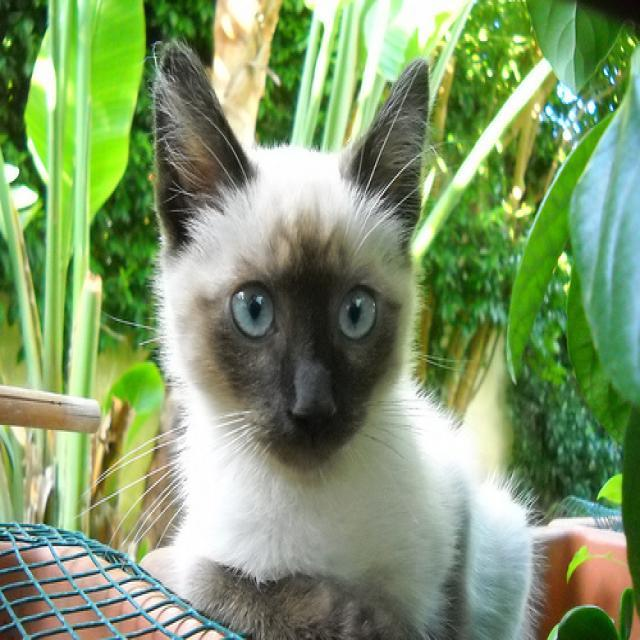Siamese: (151, 38, 426, 468)
